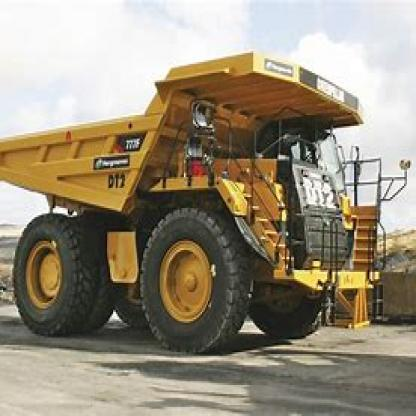dump_truck: (4, 47, 402, 356)
